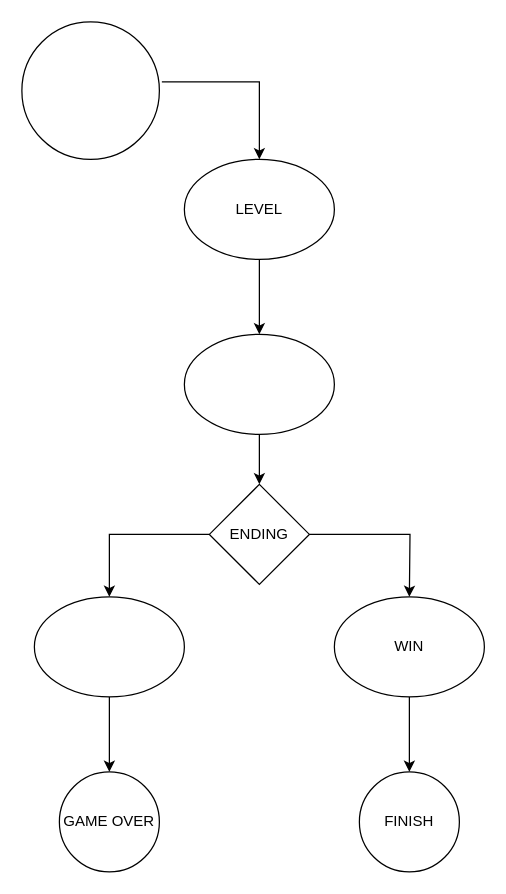
The diagram is 506 pixels wide and 894 high, and some of its shapes have lost their labels. The centre of each missing label's shape, as x and y in pixels:
"GAME START" goes at (90,90).
"GAMEPLAY" goes at (258,383).
"LOST" goes at (108,646).
